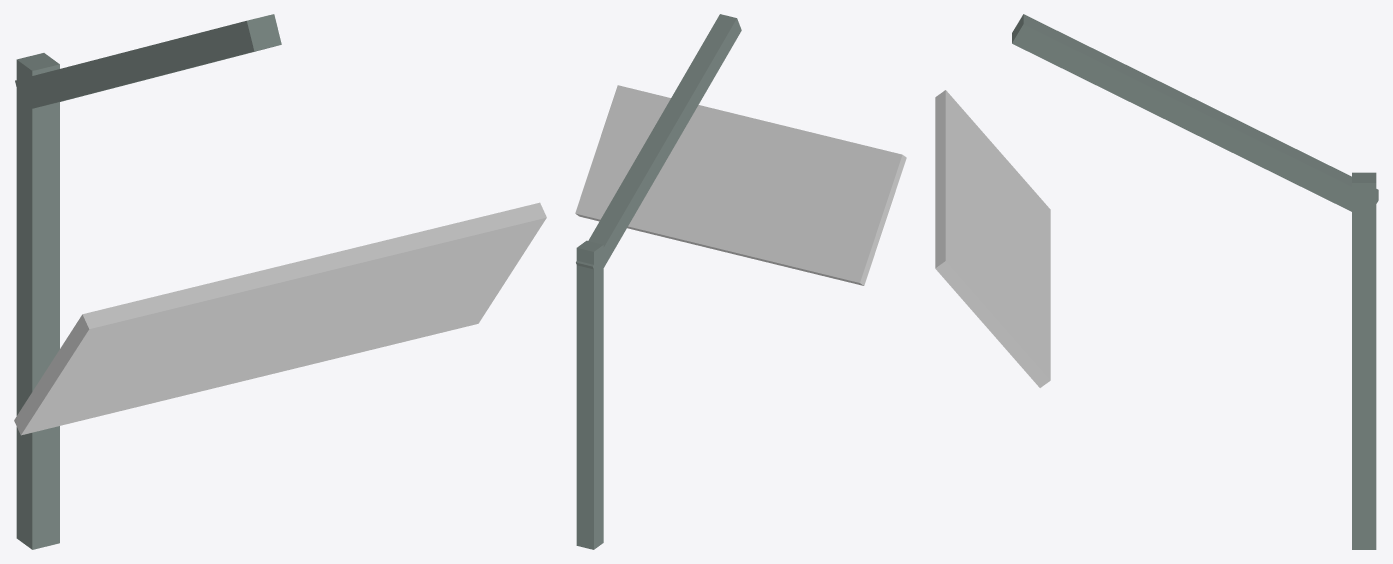
The model's file is SM_Senal_v4_Doblada_LOD0.fbx.
3 views of the same model, side by side, from view 1: azimuth 30°, elevation 25°; view 2: azimuth 150°, elevation 25°; view 3: azimuth 270°, elevation 25° (orthographic). The views are drawn at different scales.
Parts seen in each view (by area): view 1: SM_urbano_extra_v19_LOD0; view 2: SM_urbano_extra_v19_LOD0; view 3: SM_urbano_extra_v19_LOD0.
Boxes of the visible parts, bbox=[...] form: SM_urbano_extra_v19_LOD0: bbox=[14, 14, 546, 549]; SM_urbano_extra_v19_LOD0: bbox=[575, 14, 906, 549]; SM_urbano_extra_v19_LOD0: bbox=[935, 14, 1378, 549].
Bounding box in the file's own units: 1.2 × 1.72 × 1.31.
